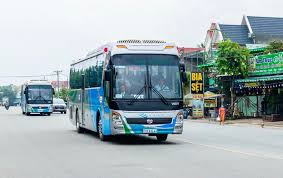Bien-so: (141, 127, 158, 135)
